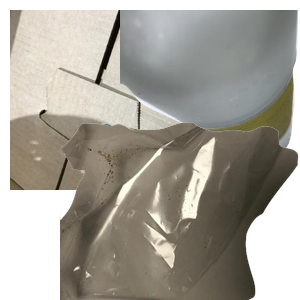cardboard: (10, 10, 250, 190)
glass: (120, 10, 300, 160)
plastic: (71, 120, 300, 300)
trash: (60, 120, 300, 300)
